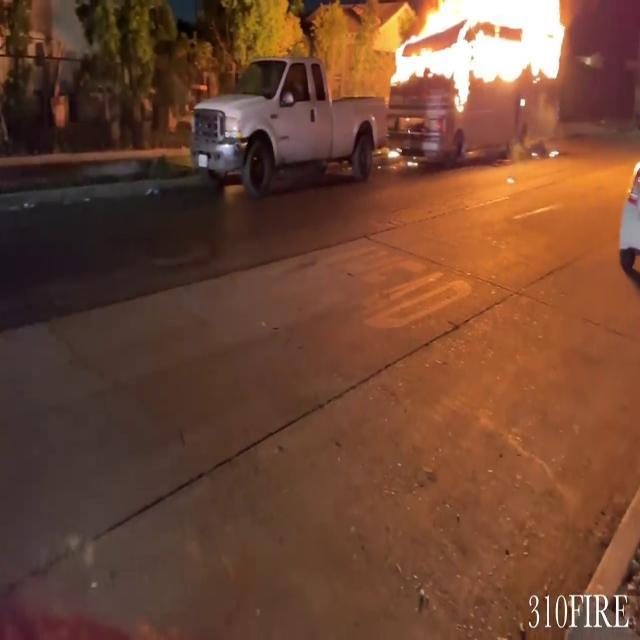Fire: (375, 0, 573, 116)
